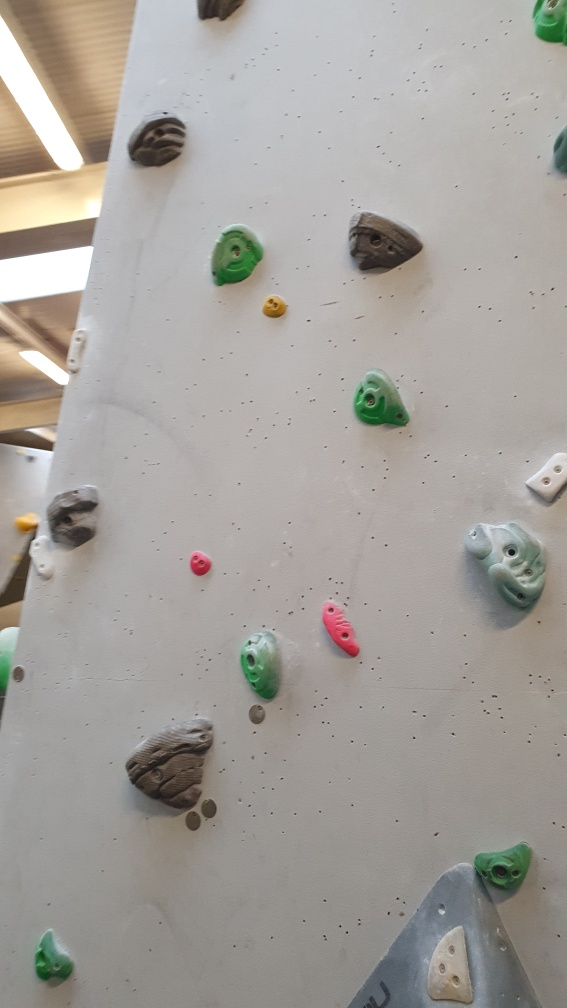Crimp: (525, 448, 567, 501), (27, 535, 54, 582), (61, 330, 87, 372)
Hand Start: (245, 701, 269, 730), (198, 798, 221, 819), (184, 809, 203, 831), (11, 665, 28, 681)
Jug: (123, 714, 216, 811), (459, 518, 550, 615), (347, 206, 428, 278), (40, 480, 101, 553), (207, 223, 269, 292), (123, 111, 189, 171), (235, 627, 287, 700), (352, 371, 414, 426)
Pinch: (187, 552, 212, 578)
